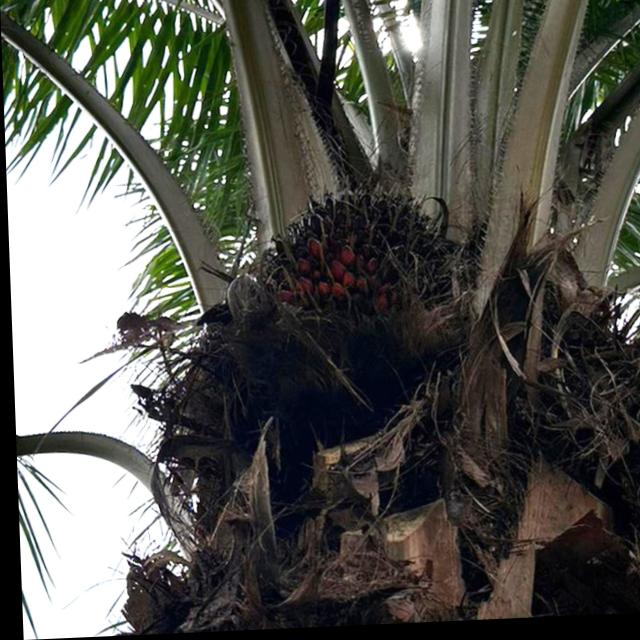ripe: (241, 183, 449, 378)
